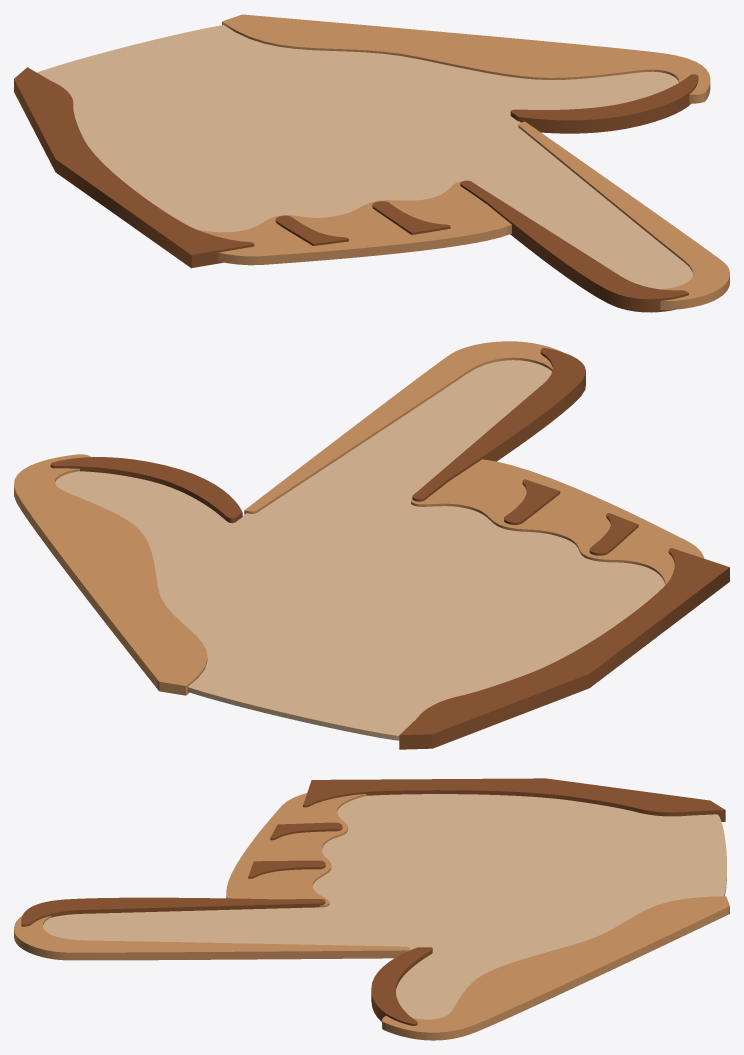
The model's file is emoji_u1f447_1f3fc.glb.
3 views of the same model, one above another, from view 1: azimuth 30°, elevation 25°; view 2: azimuth 150°, elevation 25°; view 3: azimuth 270°, elevation 25° (orthographic). The views are drawn at different scales.
Visible parts, largest first — view 1: emoji_u1f447_1f3fc; view 2: emoji_u1f447_1f3fc; view 3: emoji_u1f447_1f3fc.
Boxes of the visible parts, left/top/right/bottom form: emoji_u1f447_1f3fc: left=14, top=14, right=729, bottom=312; emoji_u1f447_1f3fc: left=14, top=341, right=729, bottom=749; emoji_u1f447_1f3fc: left=14, top=778, right=729, bottom=1040.
Size of the model in its own units: 0.0276 by 0.0006 by 0.0331.
